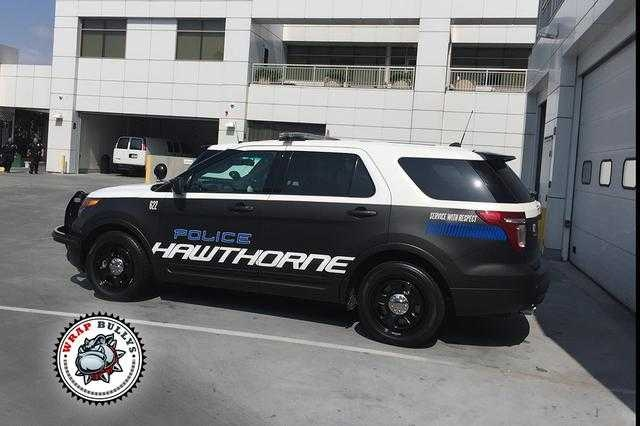Police Car: (52, 114, 568, 362)
